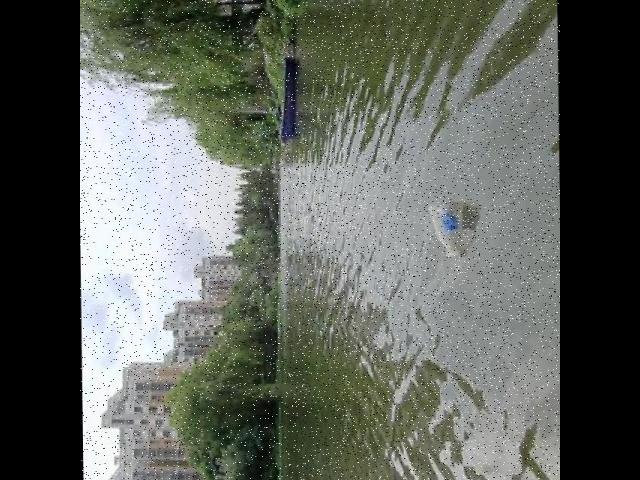Bottle: (422, 193, 468, 262)
